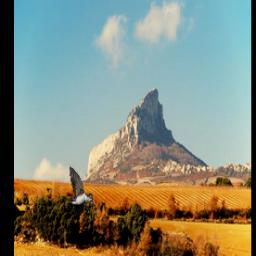Swallow: (70, 166, 94, 217)
